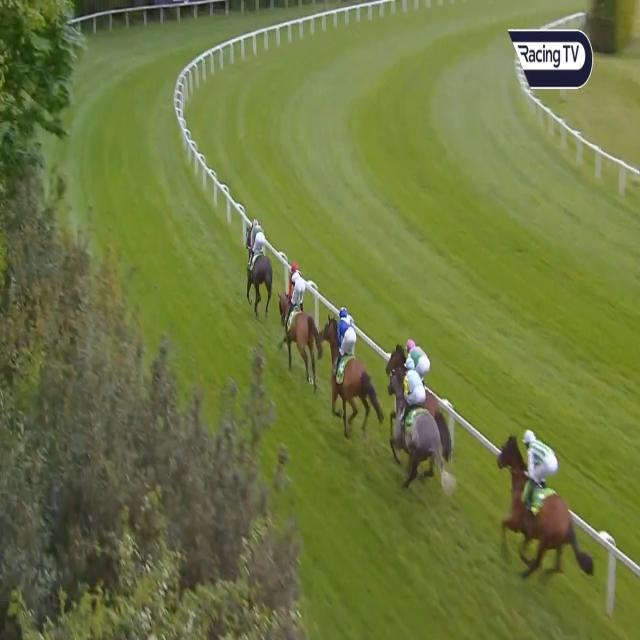horses-racing: (499, 421, 570, 570), (388, 358, 442, 480), (326, 304, 374, 414), (282, 263, 316, 367), (247, 219, 274, 313), (387, 335, 437, 378)
